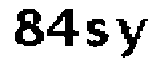4: (47, 6, 81, 51)
8: (10, 5, 45, 52)
s: (84, 16, 112, 51)
y: (116, 16, 151, 60)
